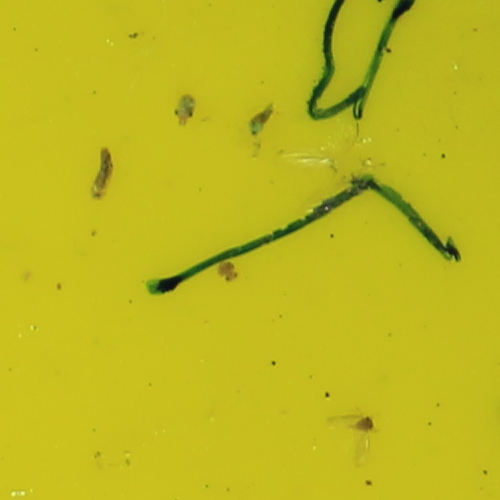Glycaspis: (174, 93, 196, 124)
Platyobria: (350, 414, 376, 435)
